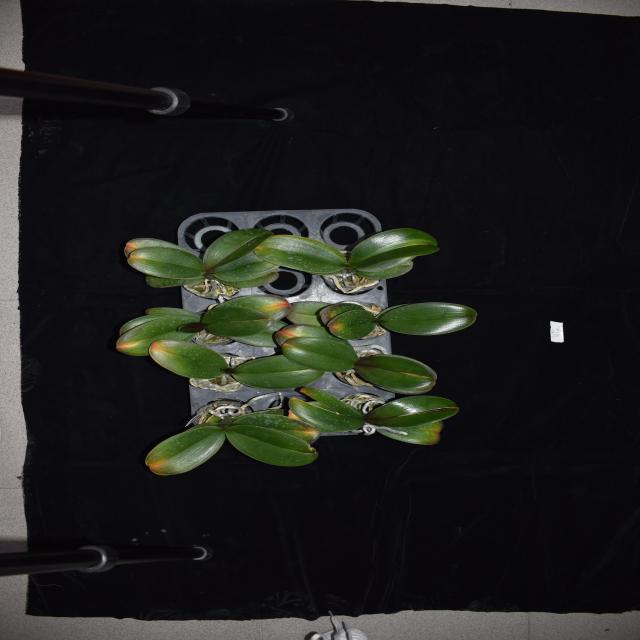leaf: (224, 423, 320, 469), (145, 422, 223, 476), (348, 227, 440, 270), (353, 350, 439, 394), (378, 300, 478, 336), (290, 386, 365, 434), (253, 236, 347, 274), (365, 395, 461, 430), (115, 318, 202, 355), (233, 354, 326, 388), (148, 339, 228, 378), (203, 227, 273, 269), (283, 337, 358, 375), (124, 248, 206, 279), (206, 294, 293, 322), (271, 322, 355, 350), (375, 415, 453, 445), (234, 414, 320, 441), (204, 305, 274, 337), (208, 251, 280, 282), (116, 312, 200, 332), (327, 309, 378, 341), (286, 300, 334, 327), (320, 298, 369, 324), (124, 237, 194, 255), (348, 260, 414, 279), (214, 271, 281, 288), (145, 272, 208, 288), (146, 306, 201, 316), (176, 322, 208, 334), (221, 367, 238, 374)
